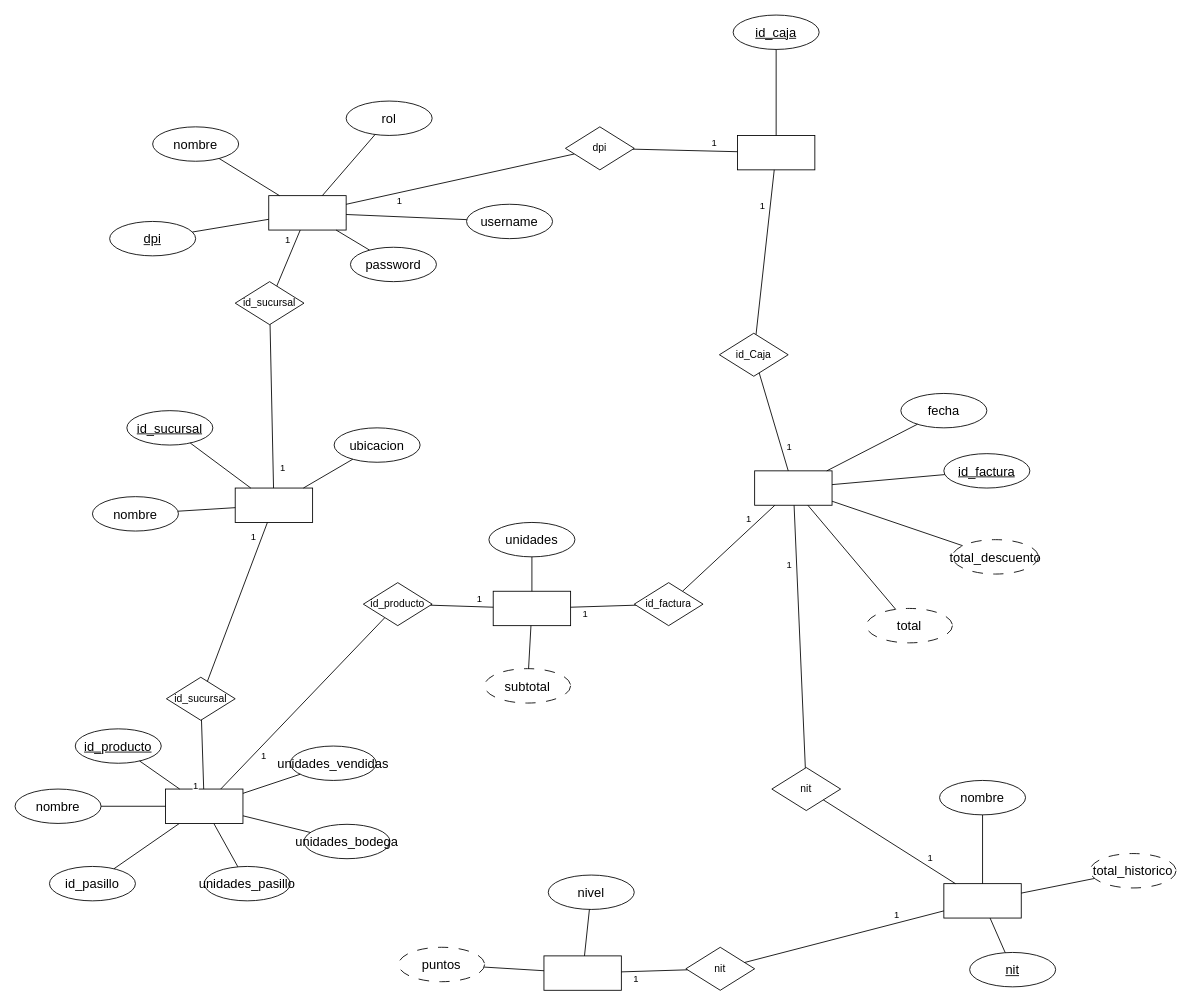
The diagram is 1191 pixels wide and 1005 high, and some of its shapes have lost their labels. Each missing label, with the centre of its shape:
"Cajas" belongs at (x=776, y=152).
"Clientes" belongs at (x=982, y=900).
"Empleados" belongs at (x=307, y=212).
"ProductoFacturado" belongs at (x=531, y=608).
"Productos" belongs at (x=204, y=805).
"Sucursales" belongs at (x=273, y=504).
"Tarjetas" belongs at (x=582, y=972).
"Ventas" belongs at (x=793, y=487).
